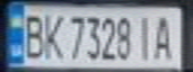2: (100, 12, 118, 61)
3: (81, 12, 103, 61)
7: (63, 11, 84, 60)
8: (115, 12, 136, 61)
A: (148, 11, 178, 61)
B: (18, 10, 48, 60)
I: (133, 11, 157, 61)
K: (39, 10, 66, 61)
